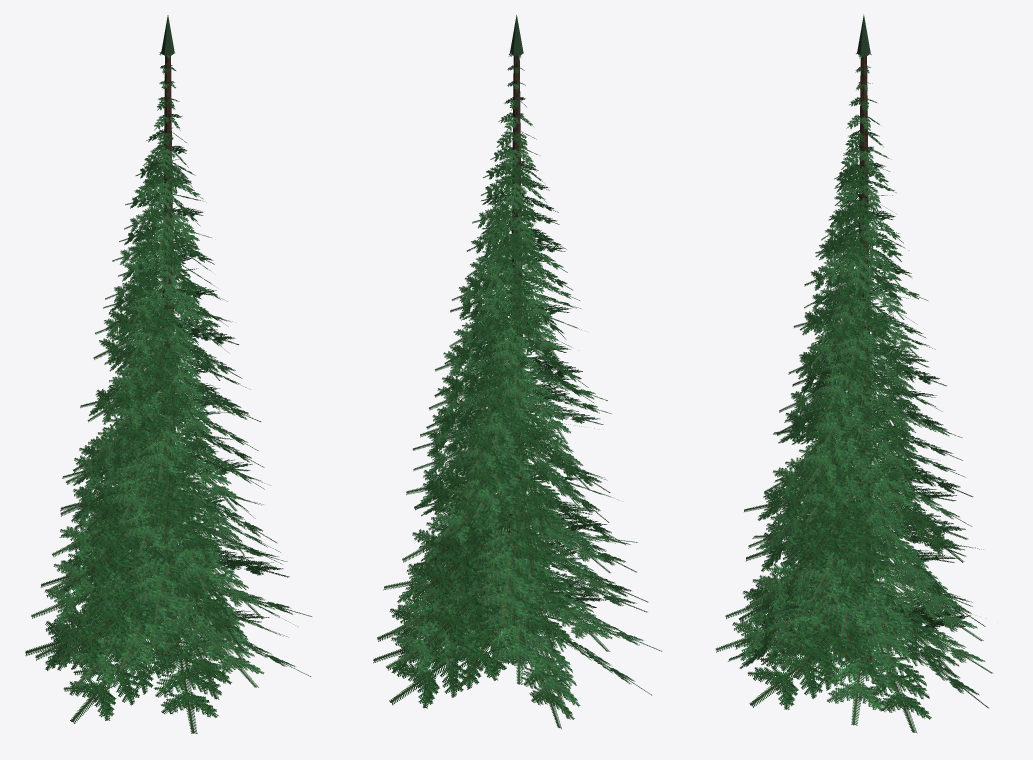
Rendered from spruce_hq_d.glb.
3 renders of one model, left to right at view 1: azimuth 30°, elevation 25°; view 2: azimuth 150°, elevation 25°; view 3: azimuth 270°, elevation 25°, orthographic.
Parts seen in each view (by area): view 1: sprucehq; view 2: sprucehq; view 3: sprucehq.
Boxes of the visible parts, <box> form: sprucehq: <box>25,15,311,733</box>; sprucehq: <box>373,15,662,728</box>; sprucehq: <box>715,14,993,733</box>.
Size of the model in its own units: 16.51 by 38.22 by 15.89.
4 materials, 3 textured.
